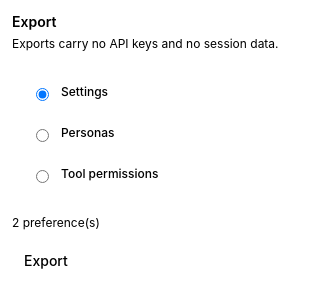
the tool-permissions summary counts what the catalogue still knows
Click the radio button labelled "Tool permissions" at (42,176), box x1=36 y1=170 x2=49 y2=183
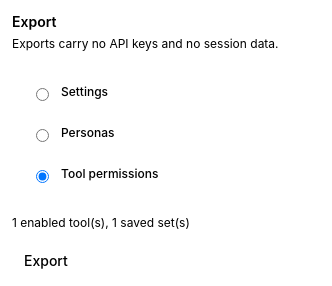
Expected: the text with test id "portable-export-summary" reads "1 enabled tool(s), 1 saved set(s)", x1=12 y1=215 x2=190 y2=230
